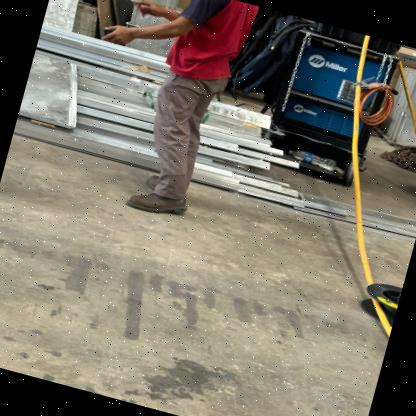bota: (123, 184, 191, 224), (140, 168, 176, 200)
